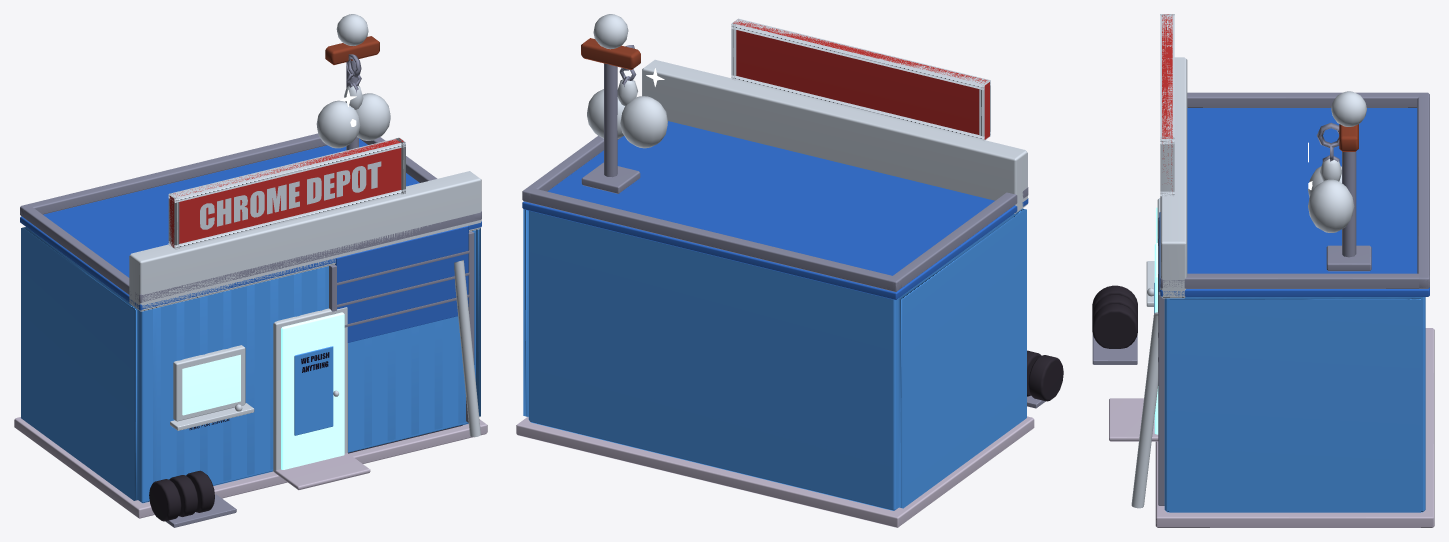
File: chrome_depot.glb
3 renders of one model, left to right at view 1: azimuth 30°, elevation 25°; view 2: azimuth 150°, elevation 25°; view 3: azimuth 270°, elevation 25°, orthographic. The views are drawn at different scales.
Parts seen in each view (by area): view 1: Depot; view 2: Depot; view 3: Depot.
Part boxes in pixels (box(x1,y1,x2,y2)): Depot: box(14, 14, 487, 527); Depot: box(516, 14, 1063, 527); Depot: box(1092, 14, 1434, 527).
Size of the model in its own units: 5 by 5.02 by 3.8.
